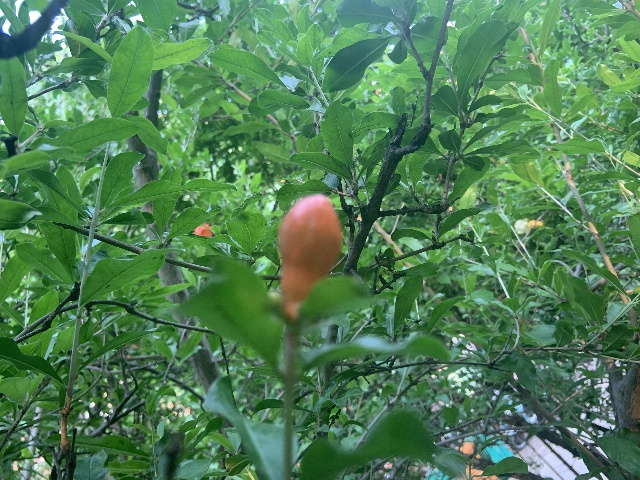bud: (276, 193, 342, 320)
